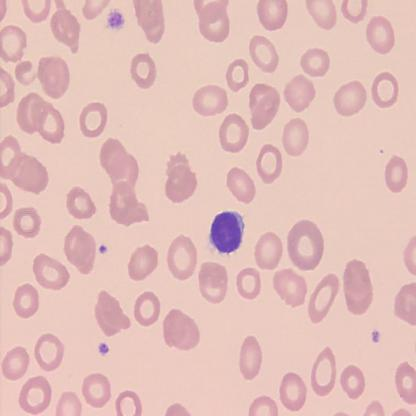Lymphocyte: (209, 209, 246, 255)
